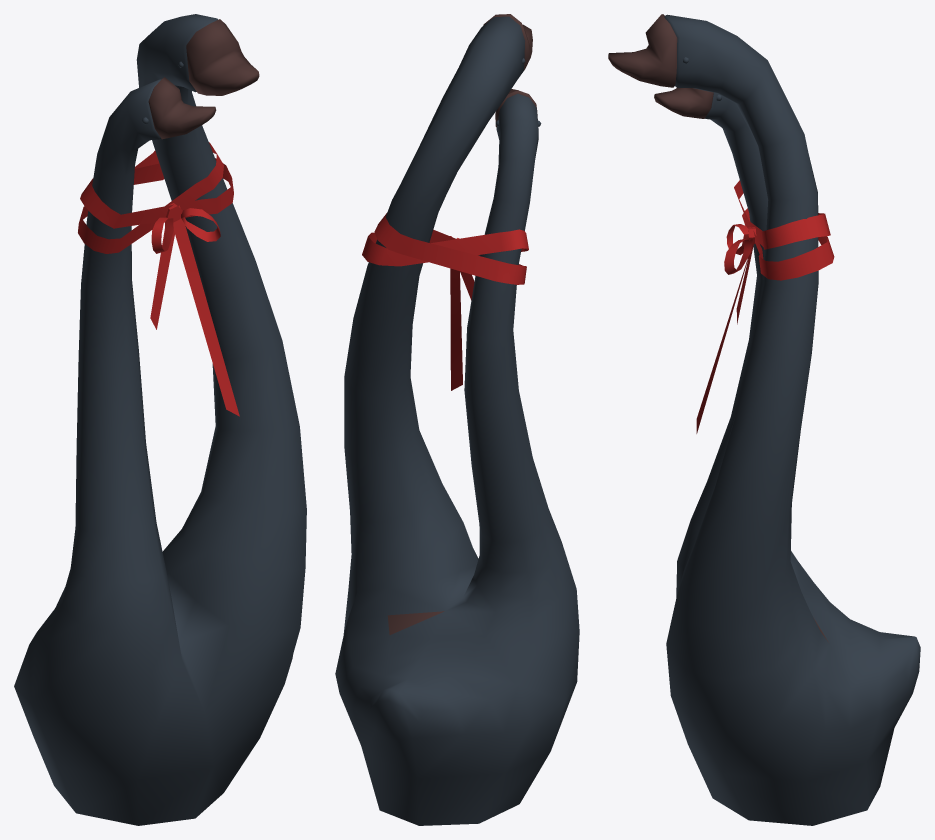
File: JDZ0401.FBX
3 renders of one model, left to right at view 1: azimuth 30°, elevation 25°; view 2: azimuth 150°, elevation 25°; view 3: azimuth 270°, elevation 25°, orthographic. The views are drawn at different scales.
Visible parts, largest first — view 1: JDZ0401; view 2: JDZ0401; view 3: JDZ0401.
Boxes of the visible parts, x1,y1,x2,y2 form: JDZ0401: [14, 14, 306, 825]; JDZ0401: [335, 14, 579, 825]; JDZ0401: [608, 14, 920, 825].
Bounding box in the file's own units: 11.59 × 13.08 × 35.93.
